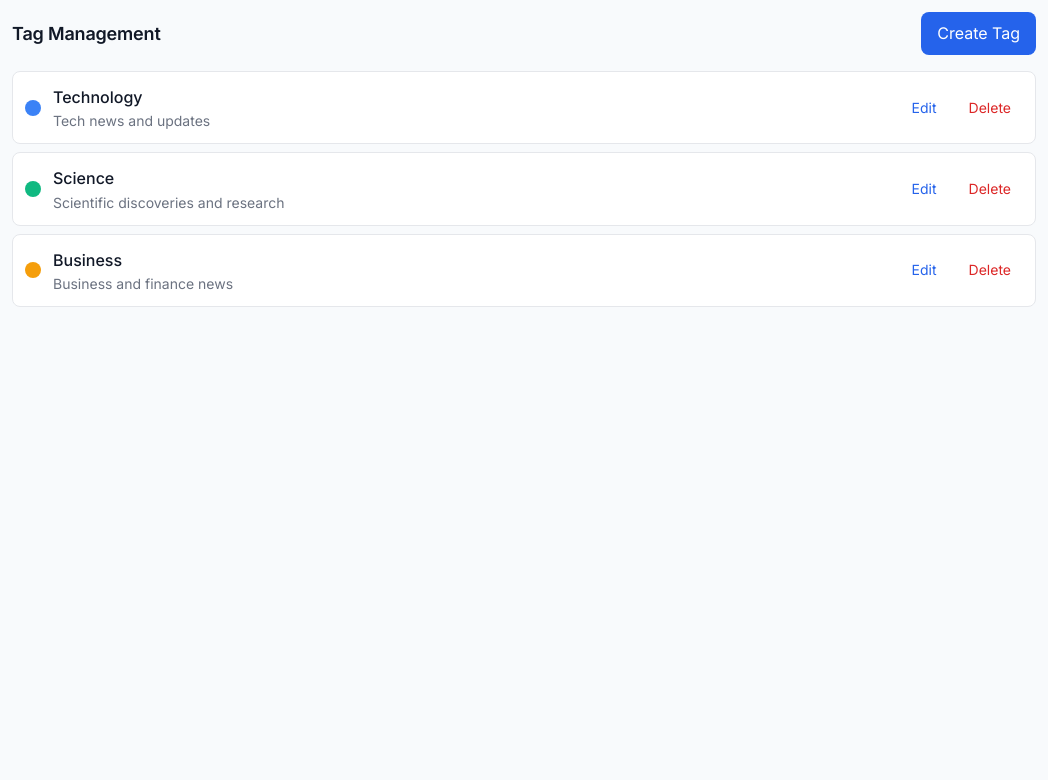
Test: TagManagement › Create Form › disables submit button during pending create
Click the button "Create Tag" at (979,34), box [921, 12, 1036, 55]
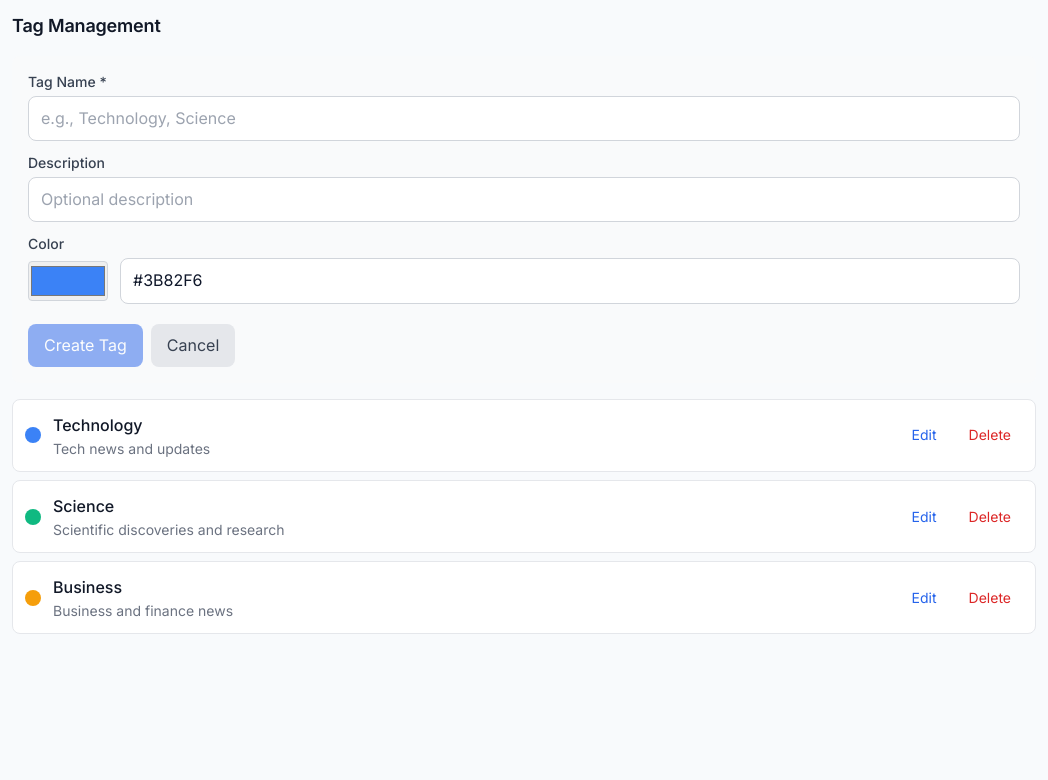
Now the button "Create Tag" is disabled, box [28, 324, 143, 367]
